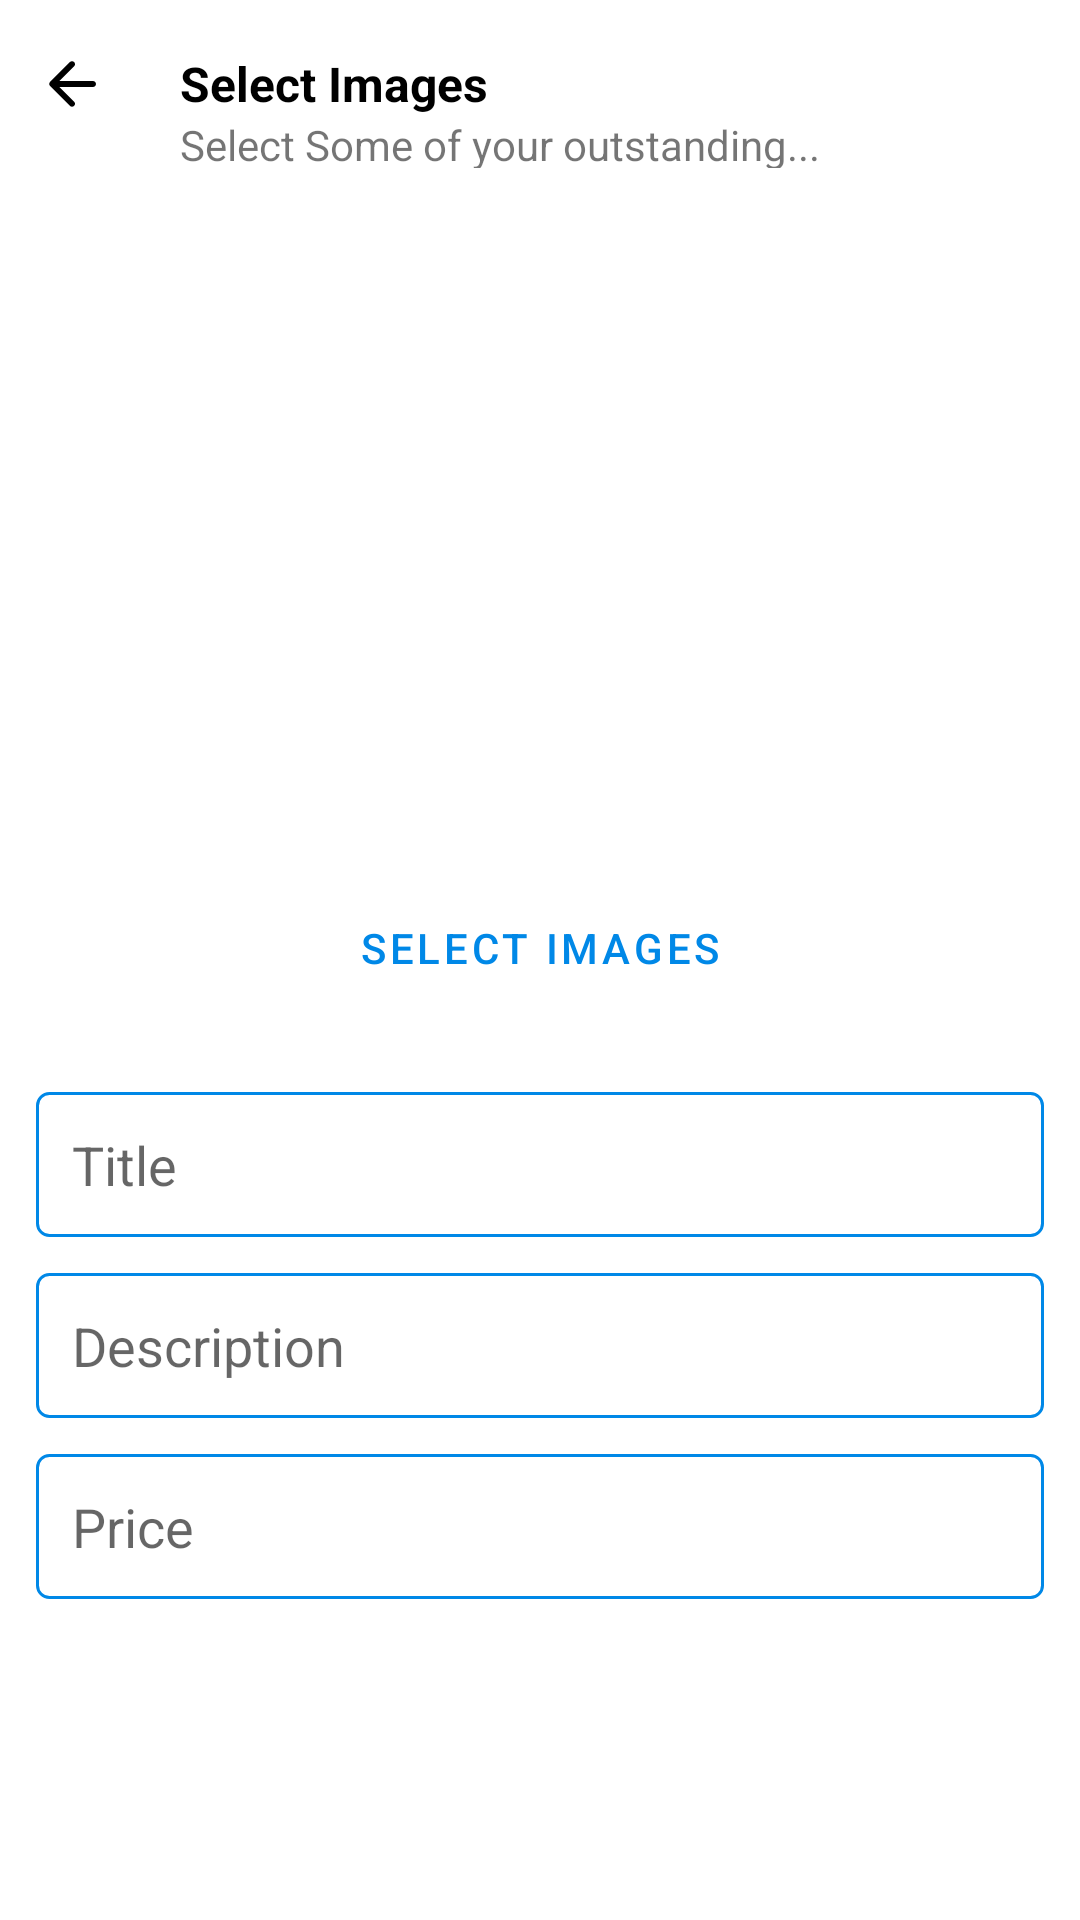

Locate icon controls on the screen. Image size 1080px×1920px, boxes as BBox(x1, y1, x2, y2).
arrow back: BBox(49, 61, 96, 107)
